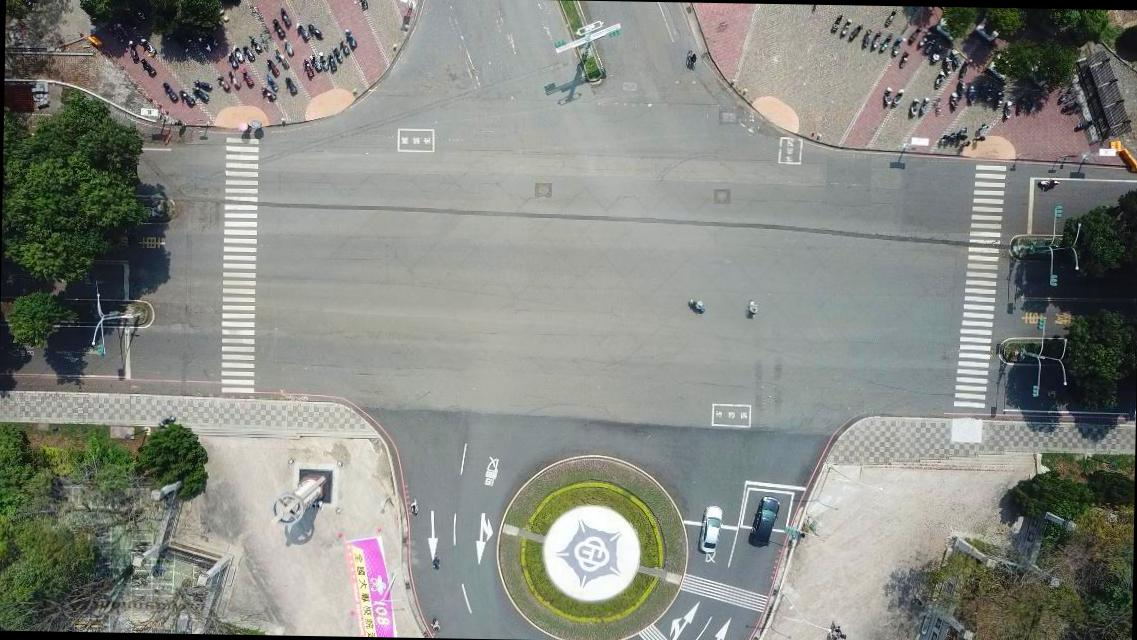vehicle: (746, 496, 782, 548), (695, 503, 726, 554)
